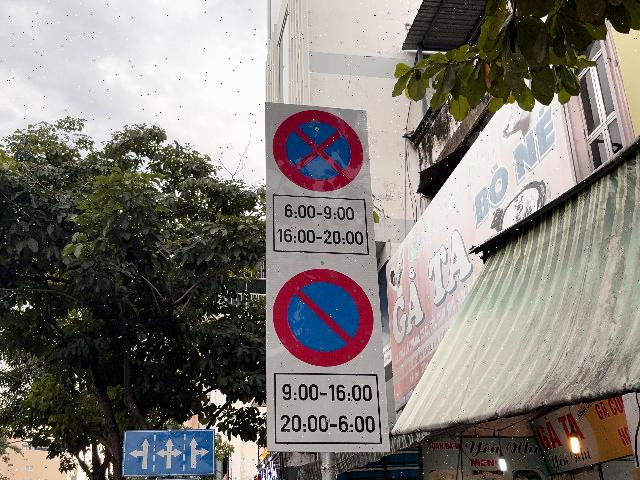cam-do-xe: (272, 269, 372, 366)
cam-dung-va-do-xe: (272, 109, 364, 191)
